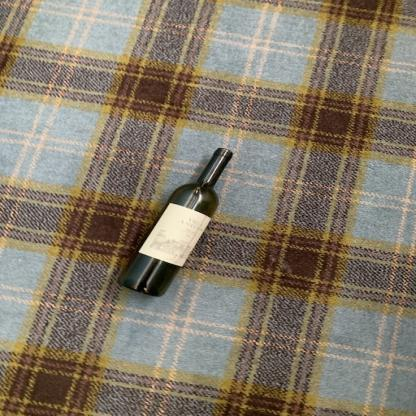trash: (118, 145, 237, 302)
